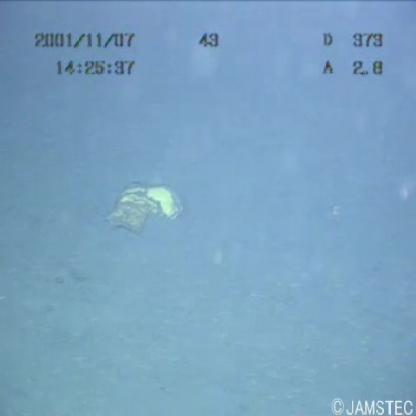Rác: (99, 177, 197, 237)
